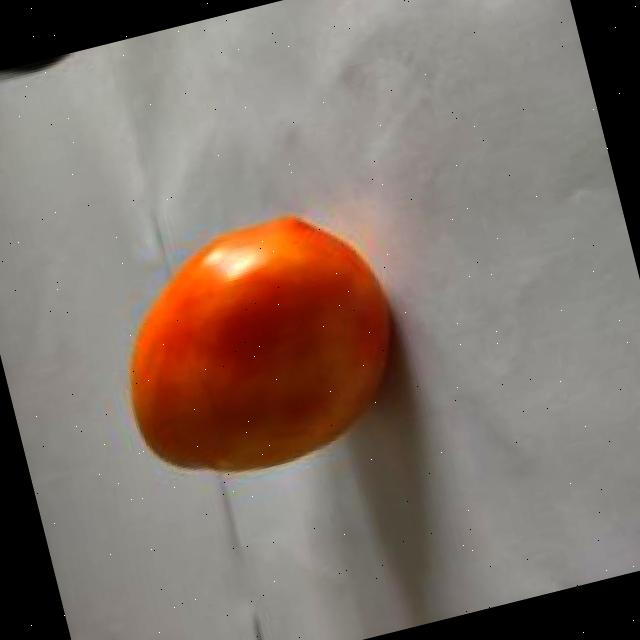tomato: (96, 199, 416, 495)
